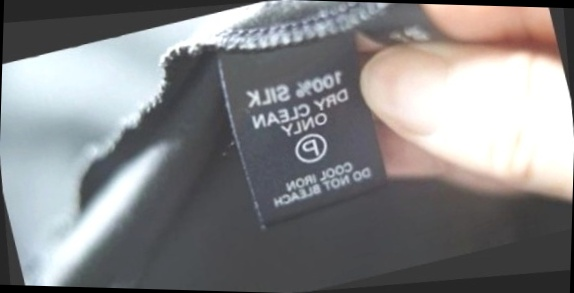dry_clean_any_solvent_except_trichloroethylene: (288, 128, 331, 168)
